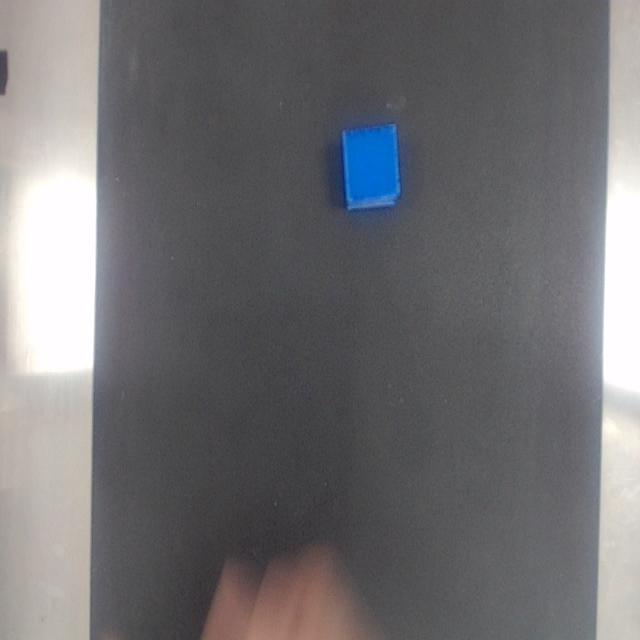Azul: (342, 124, 399, 209)
